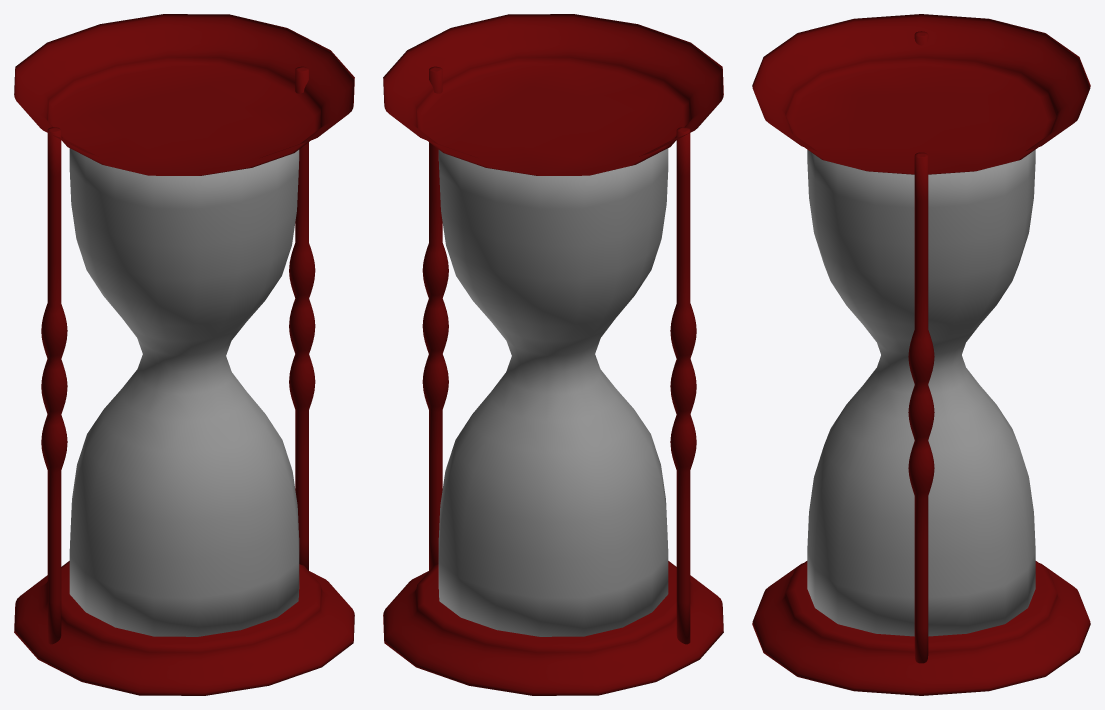
Rendered from empty_hourglass.fbx.
3 renders of one model, left to right at view 1: azimuth 30°, elevation 25°; view 2: azimuth 150°, elevation 25°; view 3: azimuth 270°, elevation 25°, orthographic.
Parts seen in each view (by area): view 1: Cube.001, Cube.003, Cube, Cube.002, Cube.004; view 2: Cube.001, Cube.003, Cube, Cube.002, Cube.004; view 3: Cube.001, Cube.003, Cube, Cube.004.
Part boxes in pixels (x1,y1,x2,y2): Cube.001: (69, 148, 299, 636); Cube.003: (14, 14, 354, 175); Cube: (14, 561, 354, 695); Cube.002: (41, 127, 67, 644); Cube.004: (289, 66, 315, 570); Cube.001: (438, 148, 668, 636); Cube.003: (383, 14, 723, 175); Cube: (383, 561, 723, 695); Cube.002: (670, 127, 696, 644); Cube.004: (422, 66, 448, 570); Cube.001: (807, 150, 1035, 636); Cube.003: (752, 14, 1090, 174); Cube: (752, 561, 1090, 695); Cube.004: (908, 152, 934, 663).
Size of the model in its own units: 23.63 by 42 by 23.63.
